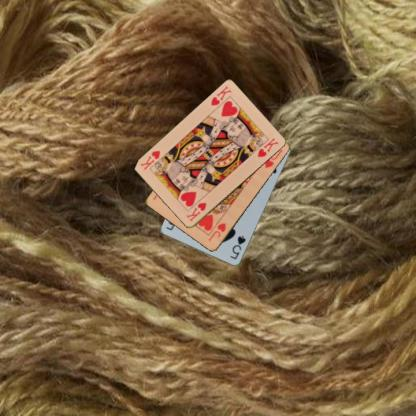5s: (228, 233, 246, 260)
Jh: (206, 220, 227, 242)
Kh: (208, 84, 233, 107), (184, 200, 208, 223)
